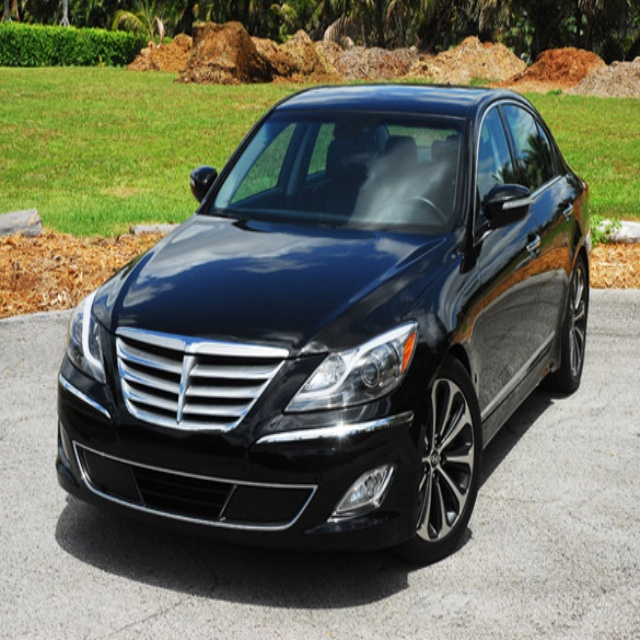Car: (55, 82, 591, 563)
